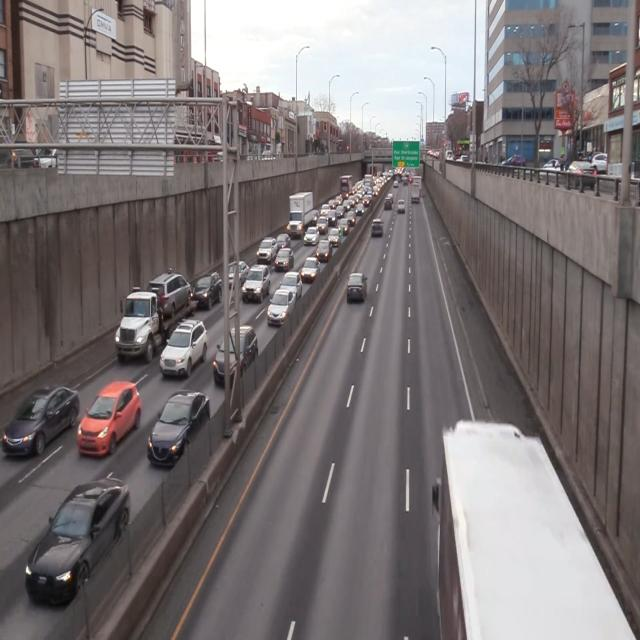Car: (26, 477, 130, 609), (116, 282, 194, 363), (3, 379, 79, 458), (78, 380, 138, 462), (148, 388, 206, 469), (214, 326, 260, 389), (159, 319, 210, 375), (192, 268, 224, 308), (242, 264, 272, 304), (266, 288, 294, 330), (344, 272, 370, 304), (226, 260, 250, 290), (256, 238, 277, 263), (274, 249, 295, 273)
